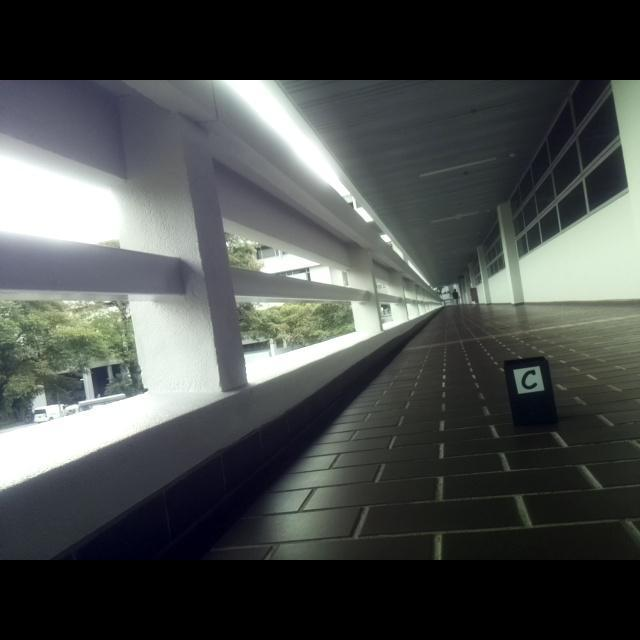C: (522, 370, 538, 390)
